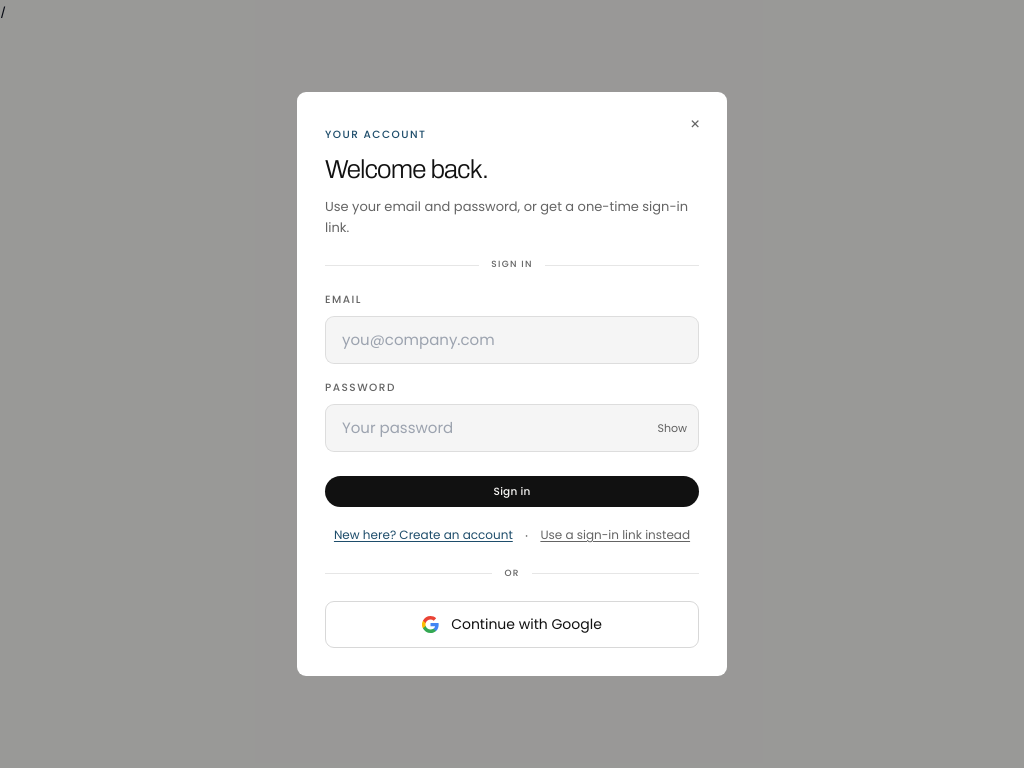
Test: AuthDialog › turns a provider failure into an actionable error and keeps Google available
Step 1. Click the button "Continue with Google" → (512, 624), box [325, 601, 699, 648]
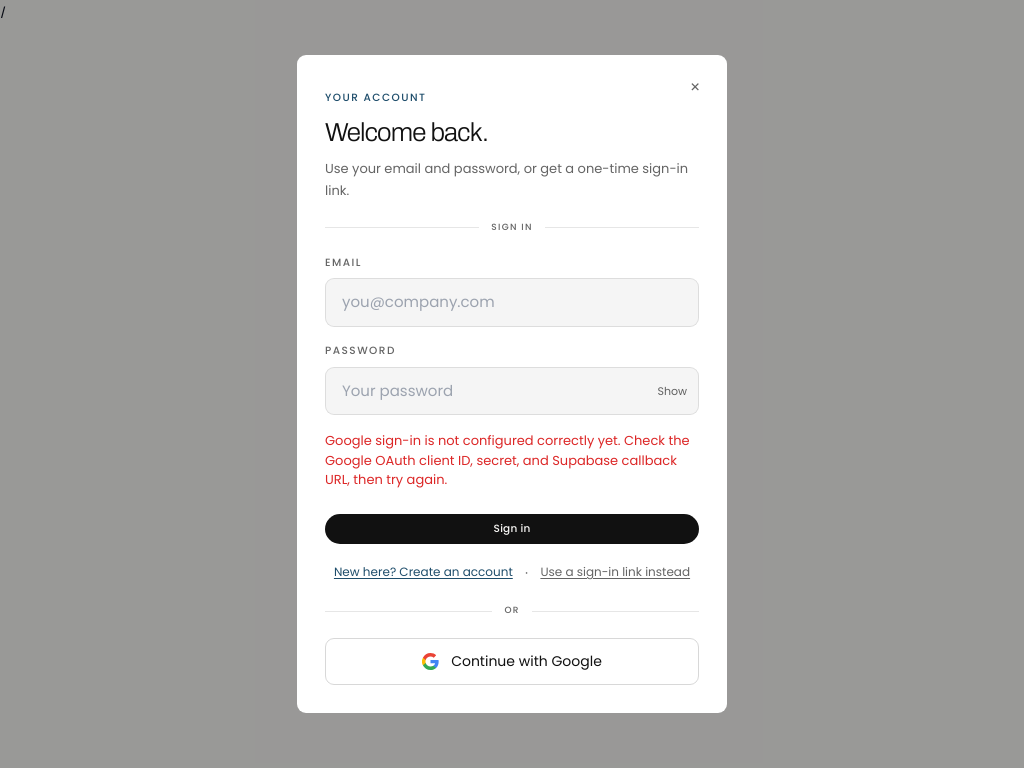
Expected: the button "Continue with Google" is shown, [325, 638, 699, 685]
Now the message shows "Google sign-in is not configured correctly yet", box [325, 431, 690, 489]
